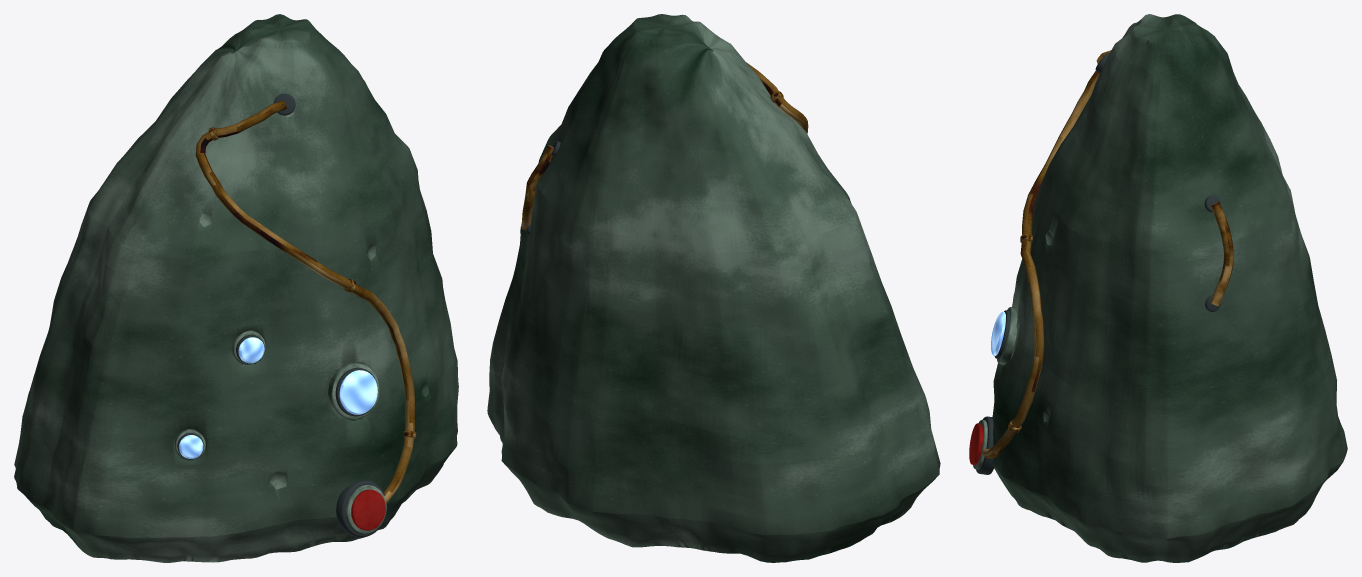
3 renders of one model, left to right at view 1: azimuth 30°, elevation 25°; view 2: azimuth 150°, elevation 25°; view 3: azimuth 270°, elevation 25°, orthographic. The views are drawn at different scales.
Visible parts, largest first — view 1: Mask asymmetric mineral body, Body seated brass S conduit, Blue persona inset 2, Single lower red terminal, Red terminal recessed backing, Persona inset alloy rim 2, Blue persona inset 1, Red terminal worn seating; view 2: Mask asymmetric mineral body, Right shoulder brass return segment, Body seated brass S conduit; view 3: Mask asymmetric mineral body, Body seated brass S conduit, Right shoulder brass return segment, Persona inset alloy rim 2, Single lower red terminal.
Boxes of the visible parts, box(x1,y1,x2,y2) form: Mask asymmetric mineral body: box(14, 14, 458, 562); Body seated brass S conduit: box(195, 100, 414, 502); Blue persona inset 2: box(339, 370, 377, 414); Single lower red terminal: box(351, 489, 385, 530); Red terminal recessed backing: box(336, 480, 387, 537); Persona inset alloy rim 2: box(328, 363, 379, 419); Blue persona inset 1: box(238, 337, 264, 363); Red terminal worn seating: box(345, 485, 386, 534); Mask asymmetric mineral body: box(487, 14, 940, 562); Right shoulder brass return segment: box(521, 145, 553, 230); Body seated brass S conduit: box(746, 62, 808, 133); Mask asymmetric mineral body: box(992, 14, 1347, 562); Body seated brass S conduit: box(981, 50, 1111, 458); Right shoulder brass return segment: box(1210, 201, 1233, 306); Persona inset alloy rim 2: box(997, 307, 1017, 364); Single lower red terminal: box(969, 423, 983, 464).
Bounding box in the file's own units: 1.74 × 1.85 × 1.36.
Materials: 6 (5 with a texture image).
